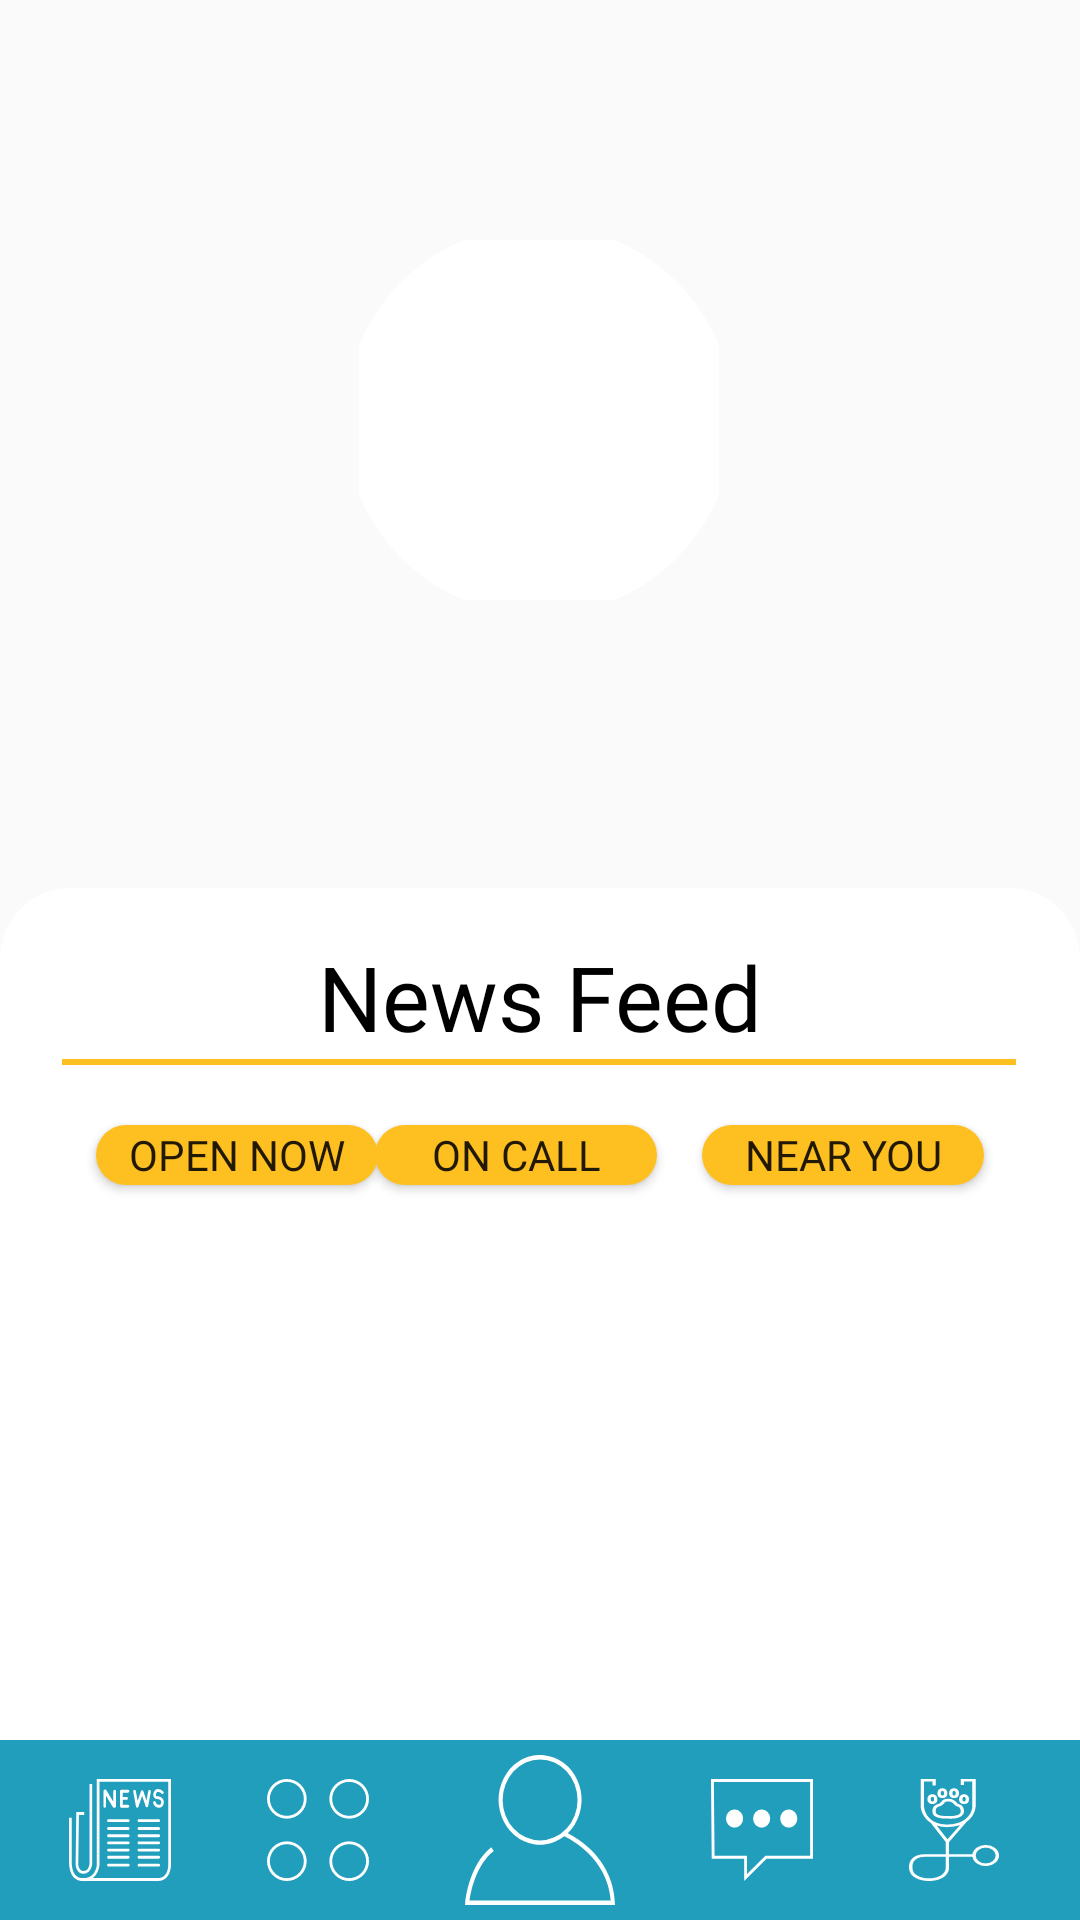

Where to tap for icons on this 1080x1920 app screen, as [x,y]:
Message: [762,1830]
Vets: [954,1830]
